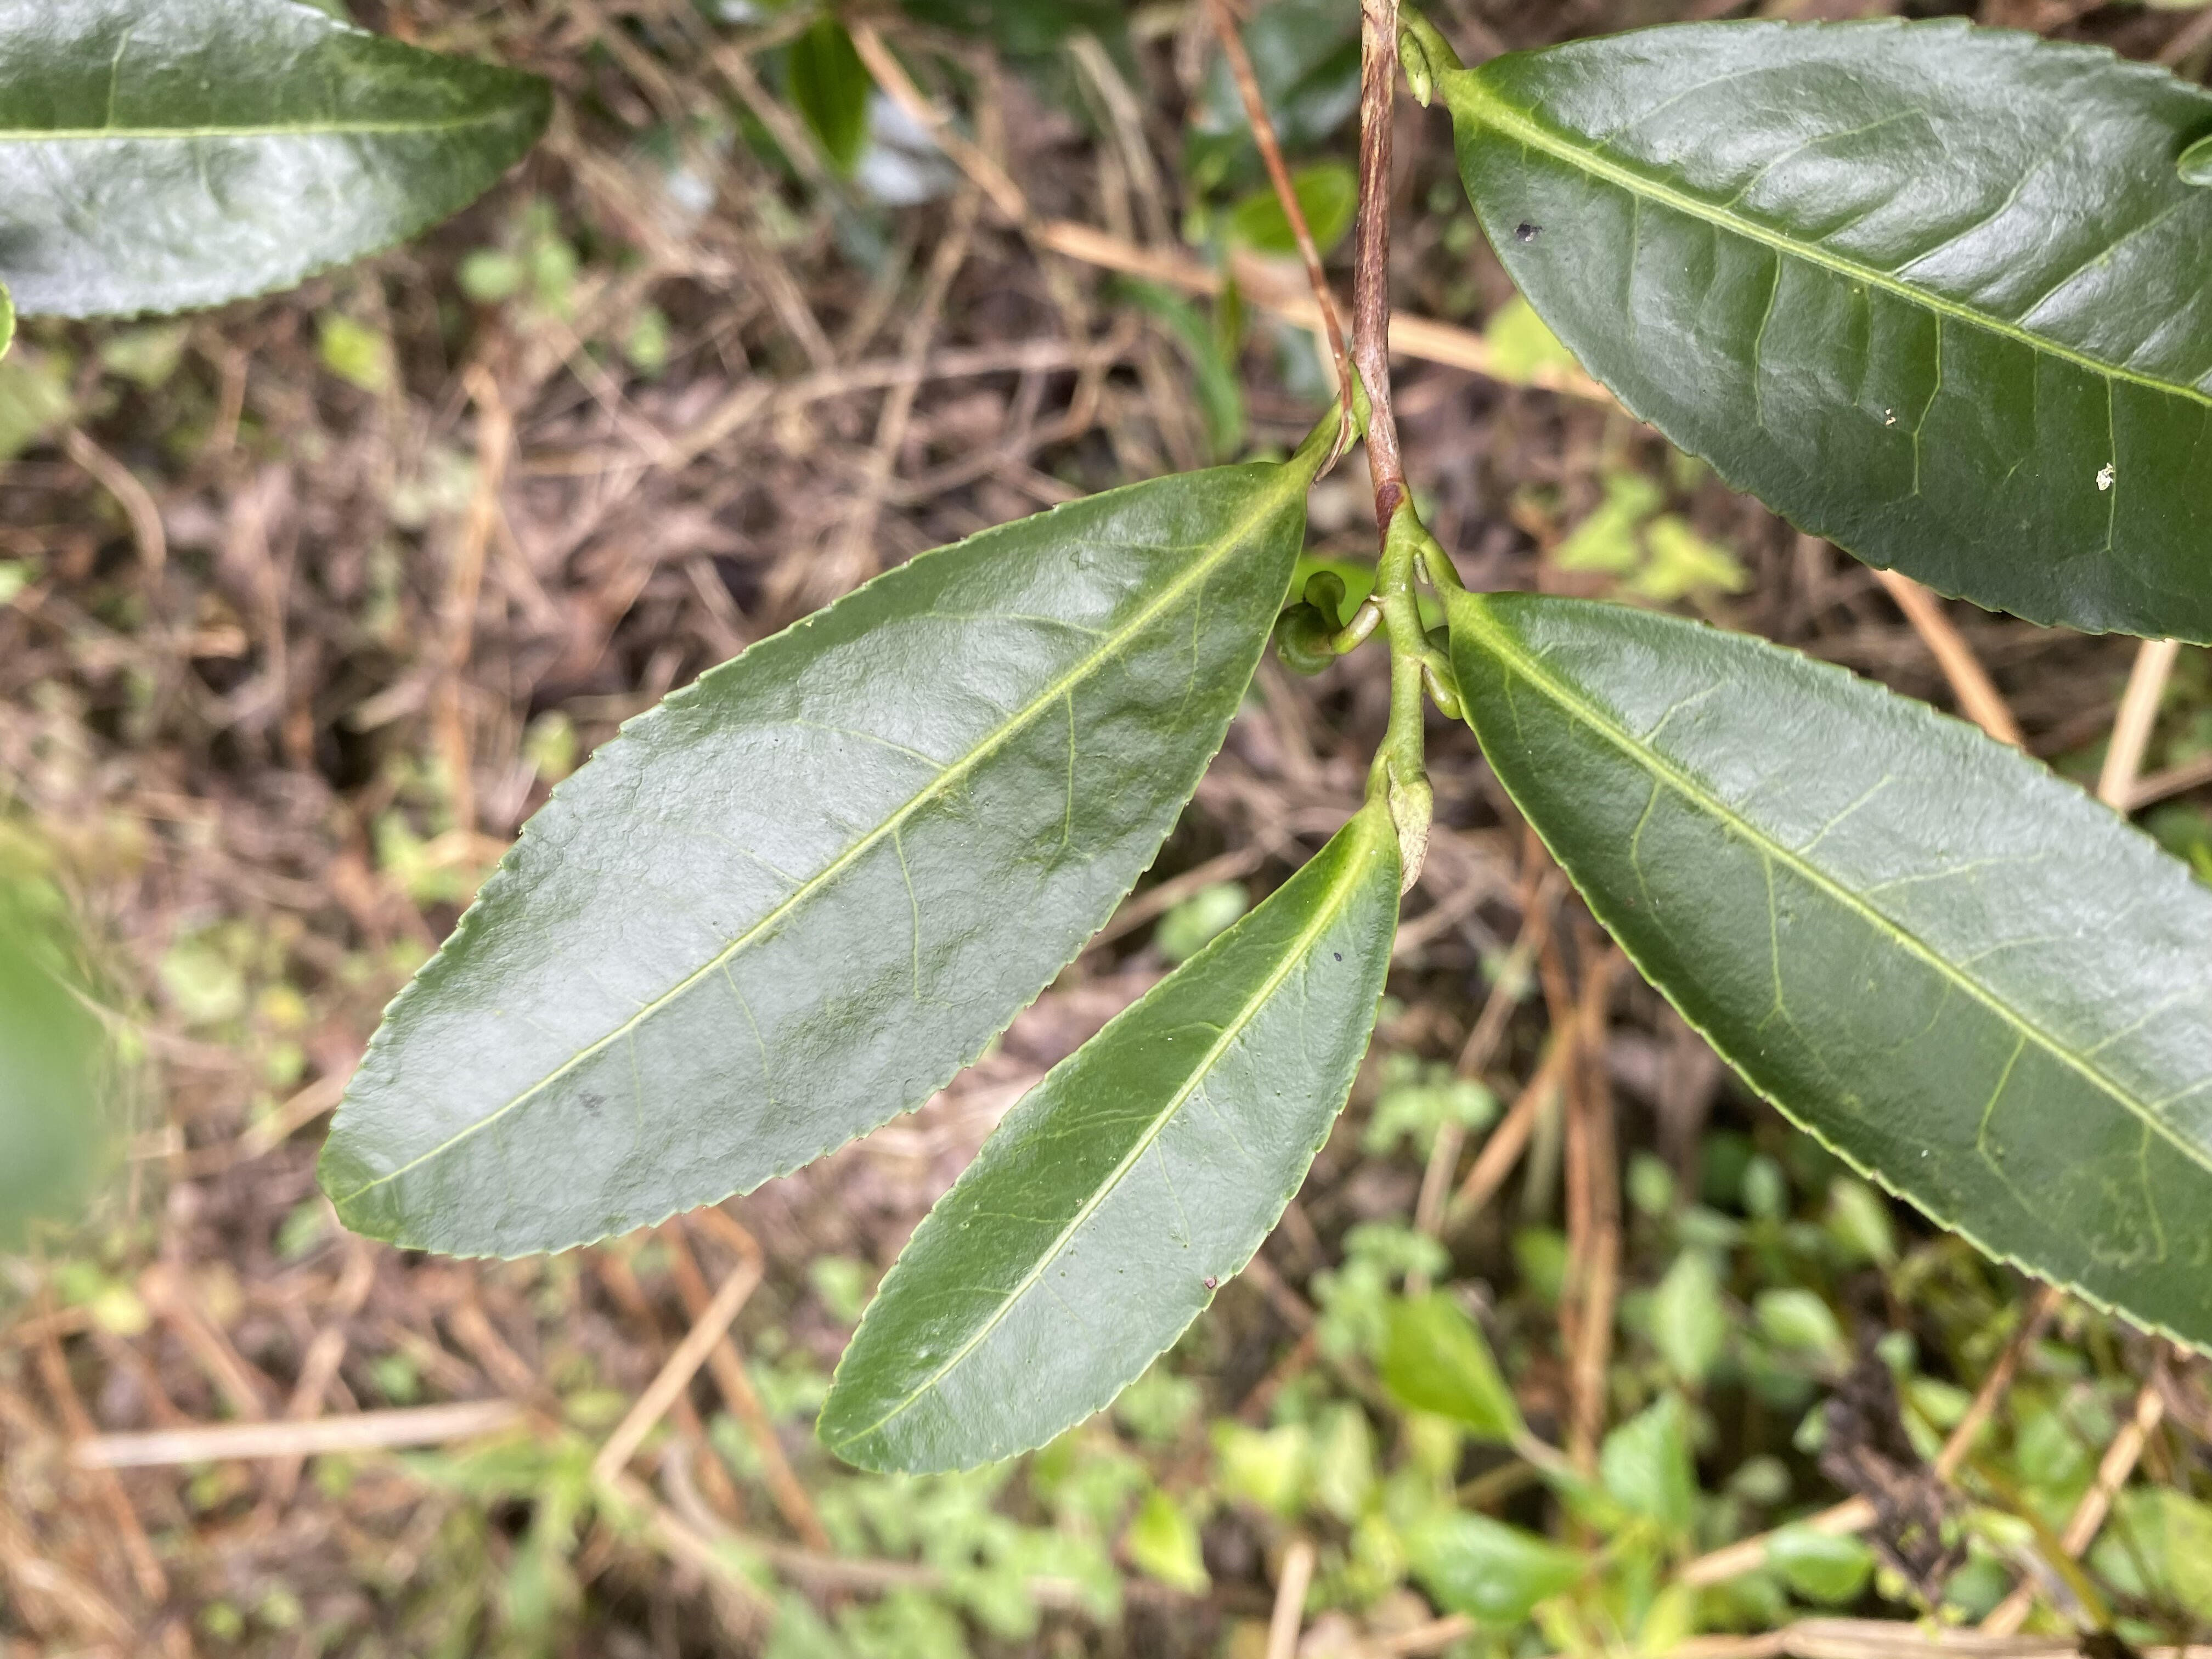healthy: (312, 458, 1312, 1262), (1451, 589, 2209, 1352)
tanju_low: (1451, 12, 2209, 647), (812, 812, 1400, 1480)
